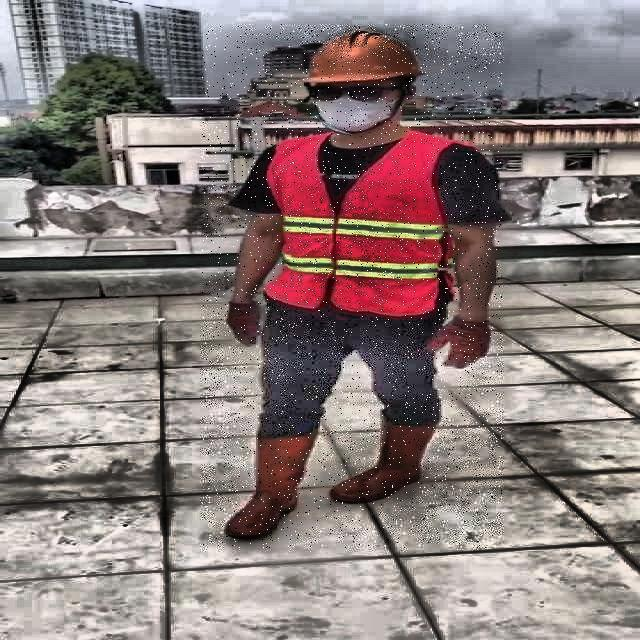safety_helmet: (300, 28, 426, 86)
safety_jacket: (263, 134, 452, 313)
